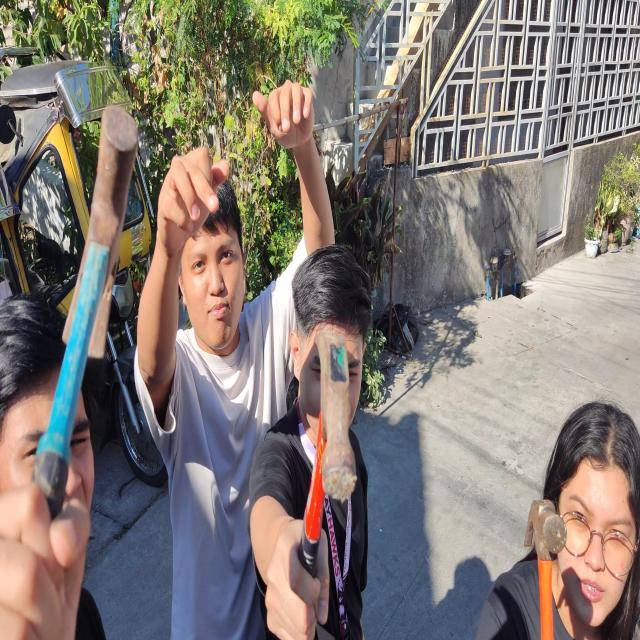hammer: (29, 104, 140, 526), (296, 332, 356, 579), (524, 498, 566, 640)
